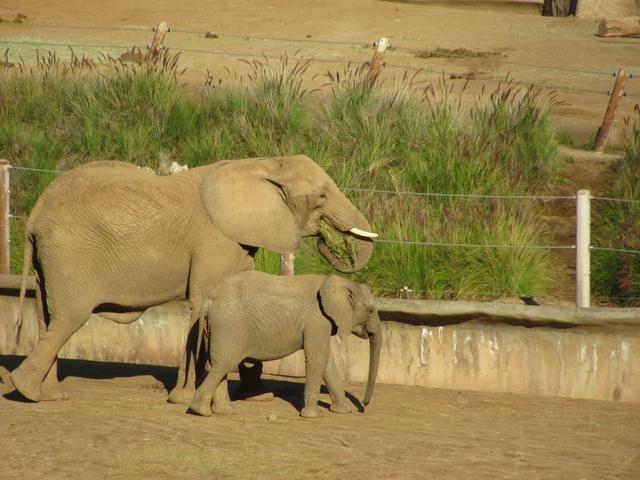elephant: (8, 110, 425, 456), (195, 259, 410, 423)
